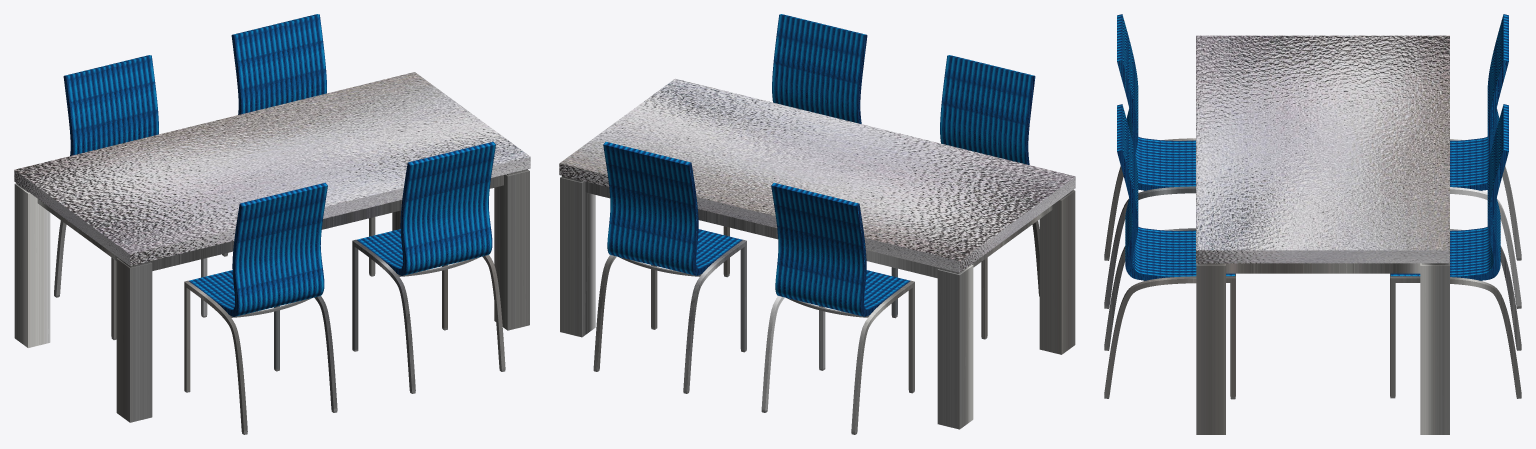
The model's file is Mesa.obj.
3 renders of one model, left to right at view 1: azimuth 30°, elevation 25°; view 2: azimuth 150°, elevation 25°; view 3: azimuth 270°, elevation 25°, orthographic. The views are drawn at different scales.
Parts seen in each view (by area): view 1: table, siege, siege01, siege02, siege03, Box14, Box13, Box12, pied, Box09, pied01, pied02 (+1 smaller); view 2: table, siege03, siege02, siege, siege01, Box13, Box14, Box07, Box08, pied04, pied06, pied03 (+2 smaller); view 3: table, siege, Box07, Box12, siege01, siege03, siege02, pied, Box11, pied05, pied02, pied03 (+3 smaller).
Part boxes in pixels (x1,y1,x2,y2): table: (14,72,530,265); siege: (356,141,495,275); siege01: (188,182,327,316); siege02: (63,55,158,155); siege03: (231,14,326,114); Box14: (116,258,152,422); Box13: (14,183,50,347); Box12: (494,169,529,330); pied: (352,239,505,391); Box09: (150,175,503,270); pied01: (184,280,247,432); pied02: (274,296,337,410); table: (559,78,1075,272); siege03: (603,142,742,275); siege02: (771,182,910,316); siege: (772,14,867,123); siege01: (940,55,1035,164); Box13: (937,264,973,429); Box14: (1039,190,1075,354); Box07: (560,176,595,337); Box08: (585,181,939,278); pied04: (851,280,914,432); pied06: (683,239,746,391); pied03: (761,296,825,410); table: (1196,35,1449,263); siege: (1117,104,1235,280); Box07: (1420,263,1449,434); Box12: (1196,263,1225,434); siege01: (1117,14,1195,190); siege03: (1390,104,1508,280); siege02: (1450,14,1508,190); pied: (1104,228,1235,396); Box11: (1226,263,1420,273); pied05: (1390,276,1521,396); pied02: (1104,186,1195,306); pied03: (1450,187,1521,306).
Bounding box in the file's own units: 78.74 × 42.31 × 64.71.
Materials: 5 (3 with a texture image).
